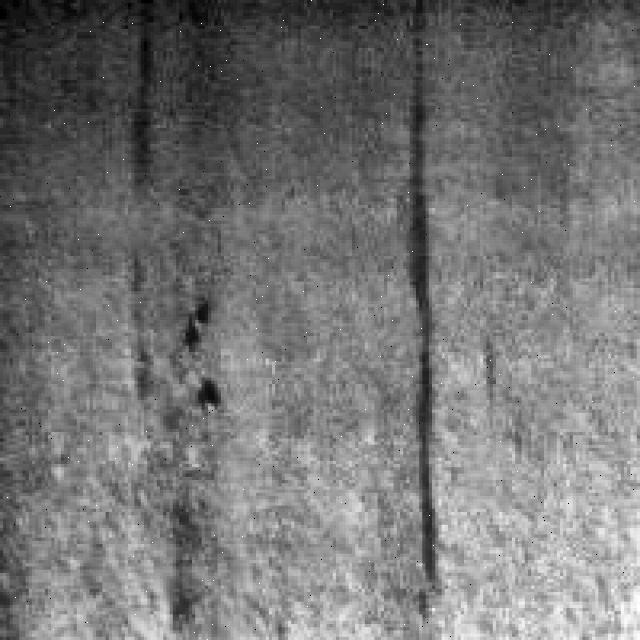Patches: (394, 3, 471, 595), (112, 3, 186, 215)
